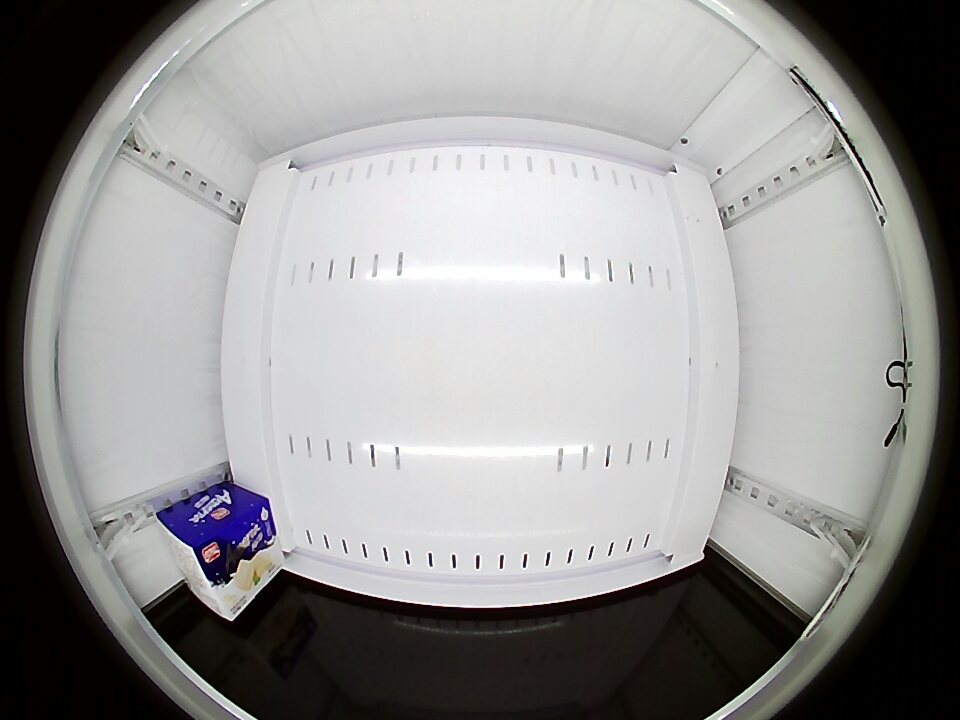meiniye: (158, 505, 253, 622)
